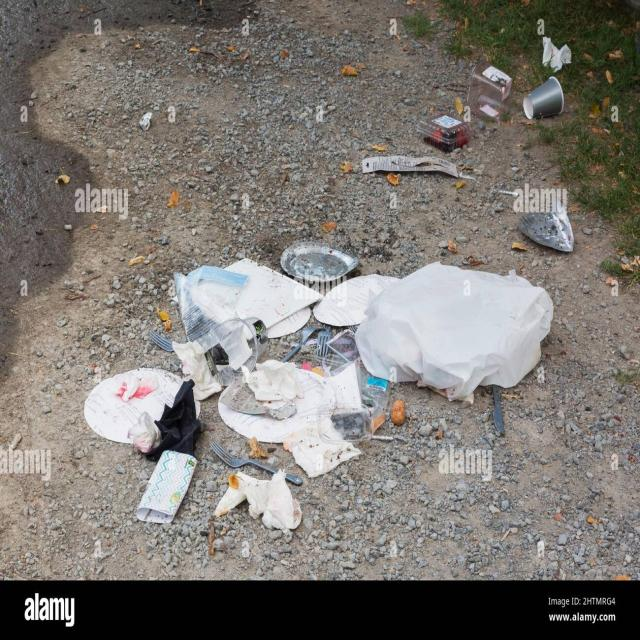giay: (214, 471, 302, 534), (284, 418, 361, 478), (136, 451, 196, 523), (173, 341, 221, 400), (362, 155, 463, 177), (285, 474, 303, 486)
hop_nhua: (468, 58, 513, 119), (419, 113, 475, 150)
ly_hop_giay: (218, 369, 335, 443), (83, 368, 182, 444), (314, 274, 400, 326), (268, 306, 310, 338)
nhom: (281, 242, 358, 282), (520, 207, 575, 251)
nhua: (197, 317, 267, 387), (210, 441, 278, 474), (357, 364, 391, 418), (282, 326, 324, 363), (328, 329, 360, 361), (494, 385, 506, 436), (149, 330, 174, 352), (317, 325, 331, 357), (286, 474, 303, 486)
